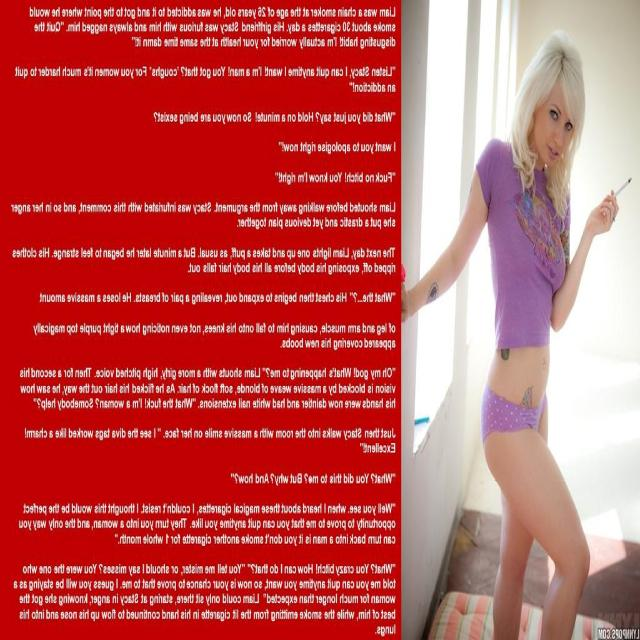smoking: (589, 168, 638, 218)
